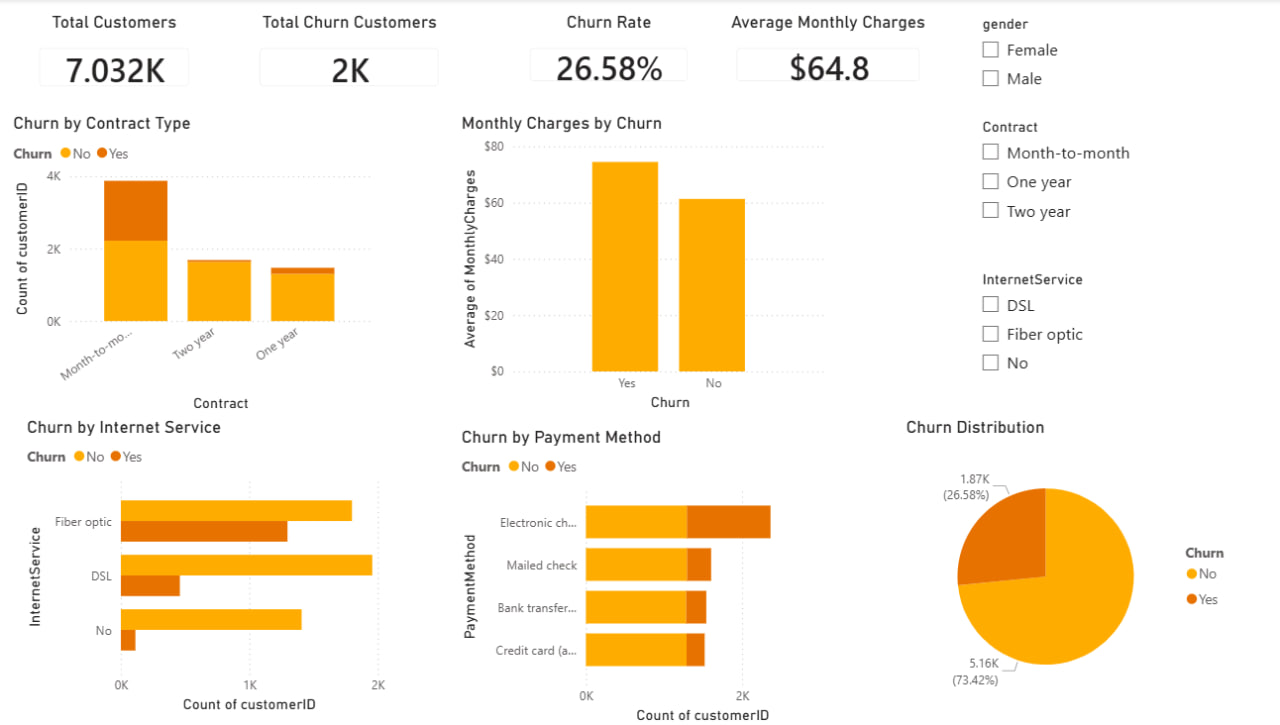

What the dashboard file says about the page in this screenshot:
{"tool":"powerbi","page":{"name":"Page 1","canvas":[1280,720],"ordinal":0},"visuals":[{"type":"cardVisual","title":"Total Customers","fields":{"Data":["Count(cleaned_churn_data.customerID)"]},"box":[25.7,12.2,182.2,91.7],"z":0},{"type":"cardVisual","title":"Total Churn Customers","fields":{"Data":["cleaned_churn_data.Churn Customers"]},"box":[243.3,12.2,211.6,91.7],"z":1000},{"type":"cardVisual","title":"Churn Rate","fields":{"Data":["cleaned_churn_data.Churn Rate"]},"box":[509.9,12.2,190.8,86.8],"z":2000},{"type":"cardVisual","title":"Average Monthly Charges","fields":{"Data":["Avg(cleaned_churn_data.MonthlyCharges)"]},"box":[714.1,12.2,215.2,86.8],"z":3000},{"type":"columnChart","title":"Churn by Contract Type","fields":{"Category":["cleaned_churn_data.Contract"],"Y":["CountNonNull(cleaned_churn_data.customerID)"],"Series":["cleaned_churn_data.Churn"]},"box":[12.8,112.6,363.5,299.3],"z":4000},{"type":"clusteredBarChart","title":"Churn by Internet Service","fields":{"Category":["cleaned_churn_data.InternetService"],"Y":["CountNonNull(cleaned_churn_data.customerID)"],"Series":["cleaned_churn_data.Churn"]},"box":[25.7,411.9,363.5,297.9],"z":5000},{"type":"clusteredColumnChart","title":"Monthly Charges by Churn","fields":{"Category":["cleaned_churn_data.Churn"],"Y":["Avg(cleaned_churn_data.MonthlyCharges)"]},"box":[454.7,112.6,370.6,299.3],"z":6000},{"type":"barChart","title":"Churn by Payment Method","fields":{"Category":["cleaned_churn_data.PaymentMethod"],"Series":["cleaned_churn_data.Churn"],"Y":["CountNonNull(cleaned_churn_data.customerID)"]},"box":[455,422,371,298],"z":7000},{"type":"slicer","fields":{"Values":["cleaned_churn_data.gender"]},"box":[960.7,11.4,276.5,101.2],"z":8000},{"type":"slicer","fields":{"Values":["cleaned_churn_data.Contract"]},"box":[960.7,112.6,278,149.7],"z":9000},{"type":"slicer","fields":{"Values":["cleaned_churn_data.InternetService"]},"box":[961,263,278,150],"z":10000},{"type":"pieChart","title":"Churn Distribution","fields":{"Y":["CountNonNull(cleaned_churn_data.customerID)"],"Category":["cleaned_churn_data.Churn"]},"box":[893.7,411.9,343.5,297.9],"z":11000}]}

Visuals, with their boxes in screenshot pixels (x1, y1, x2, y2), scaled from the page's 1280x720 canvas onto the 1280x725 screenshot:
"Total Customers" cardVisual: region(26, 12, 208, 105)
"Total Churn Customers" cardVisual: region(243, 12, 455, 105)
"Churn Rate" cardVisual: region(510, 12, 701, 100)
"Average Monthly Charges" cardVisual: region(714, 12, 929, 100)
"Churn by Contract Type" columnChart: region(13, 113, 376, 415)
"Churn by Internet Service" clusteredBarChart: region(26, 415, 389, 715)
"Monthly Charges by Churn" clusteredColumnChart: region(455, 113, 825, 415)
"Churn by Payment Method" barChart: region(455, 425, 826, 724)
slicer - cleaned_churn_data.gender: region(961, 11, 1237, 113)
slicer - cleaned_churn_data.Contract: region(961, 113, 1239, 264)
slicer - cleaned_churn_data.InternetService: region(961, 265, 1239, 416)
"Churn Distribution" pieChart: region(894, 415, 1237, 715)
